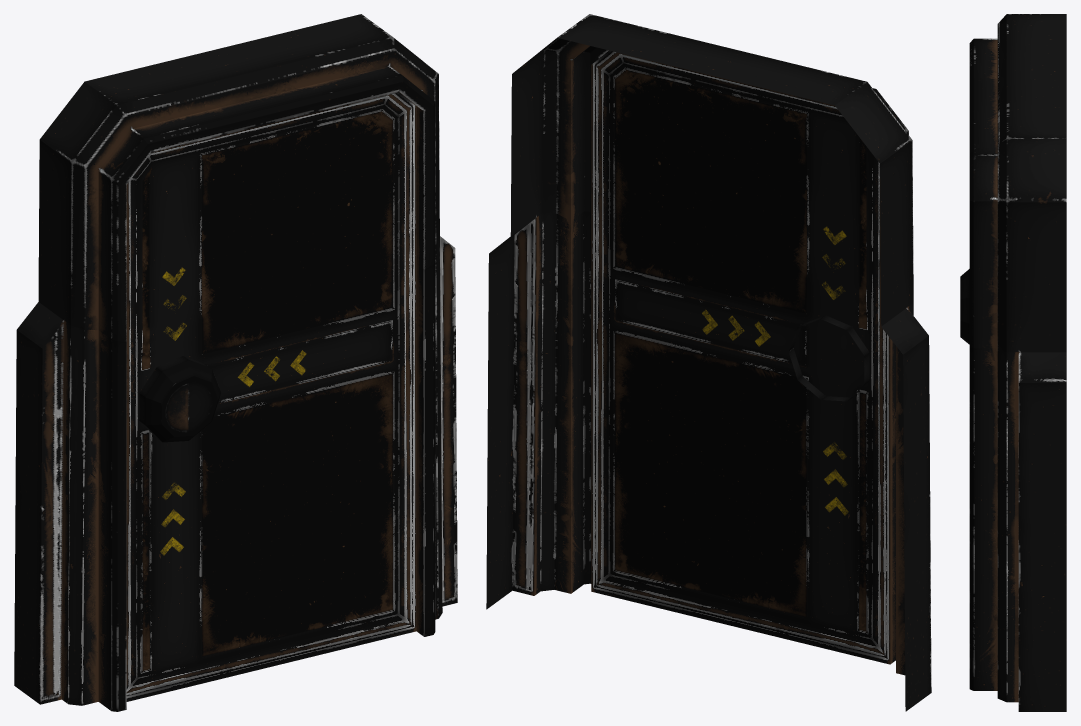
Rendered from door_single.fbx.
3 views of the same model, side by side, from view 1: azimuth 30°, elevation 25°; view 2: azimuth 150°, elevation 25°; view 3: azimuth 270°, elevation 25° (orthographic). The views are drawn at different scales.
Visible parts, largest first — view 1: loe_poly1; view 2: loe_poly1; view 3: loe_poly1.
Part boxes in pixels (x1,y1,x2,y2): loe_poly1: (14,14,457,711); loe_poly1: (486,14,931,711); loe_poly1: (960,14,1066,711).
Bounding box in the file's own units: 387 × 520 × 92.28.
